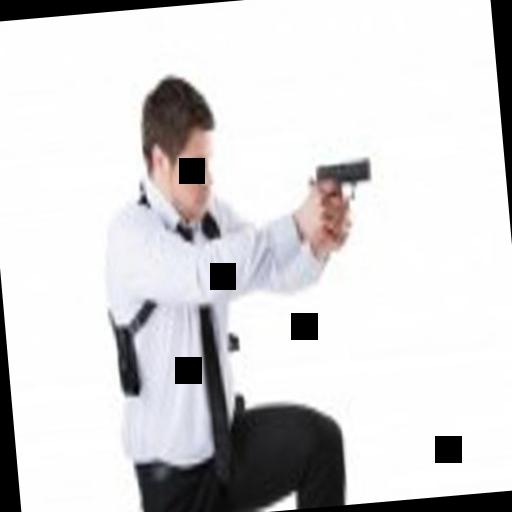Handgun: (297, 147, 375, 244)
